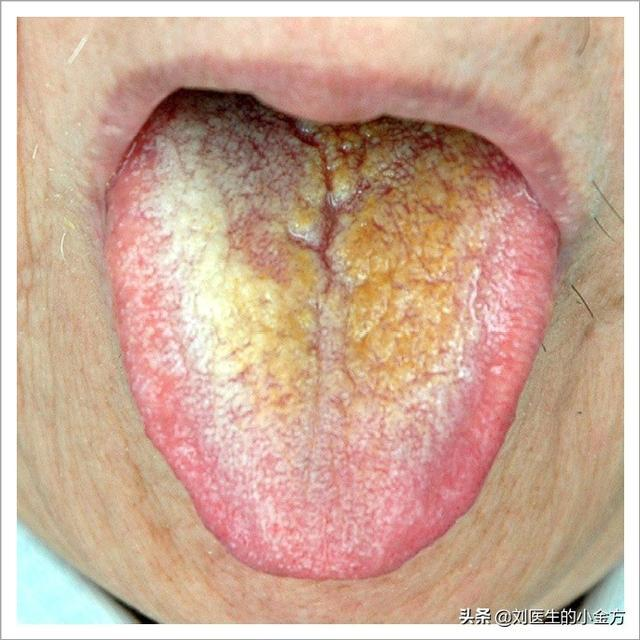tongue: (96, 92, 550, 590)
